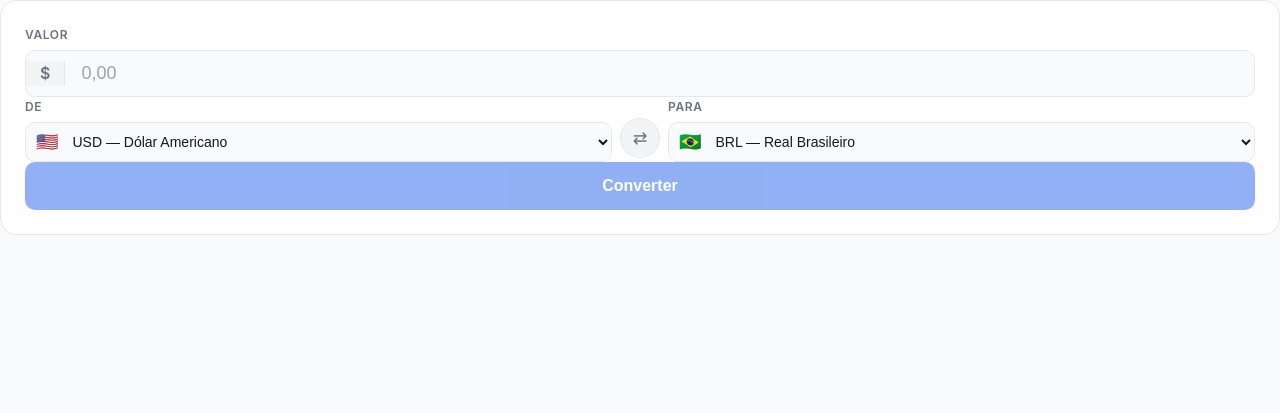
Test: Conversor › resultado de conversão › exibe a hora da cotação
Type "1" into the field with placeholder "0,00" at [660, 74], box [65, 51, 1254, 96]
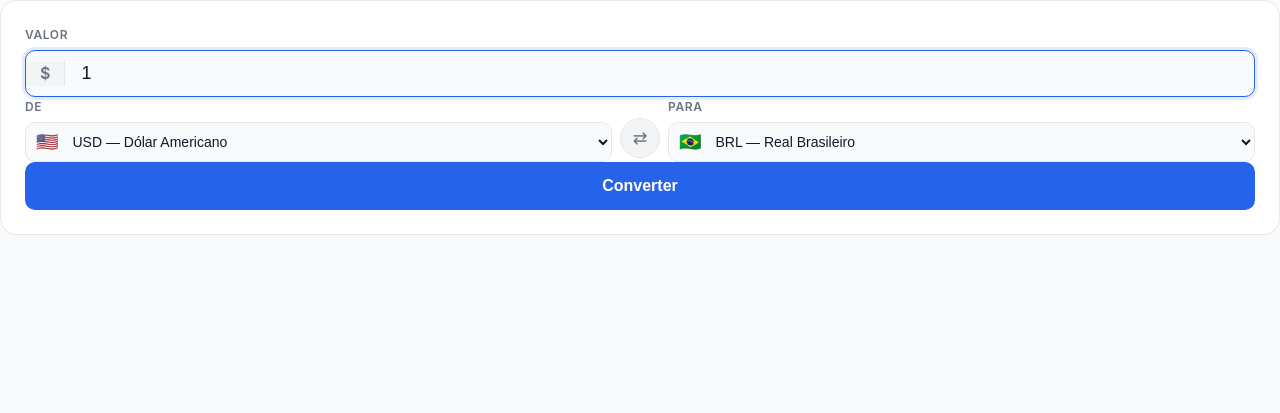
Click the button "Converter" at [640, 186], box [25, 162, 1255, 210]
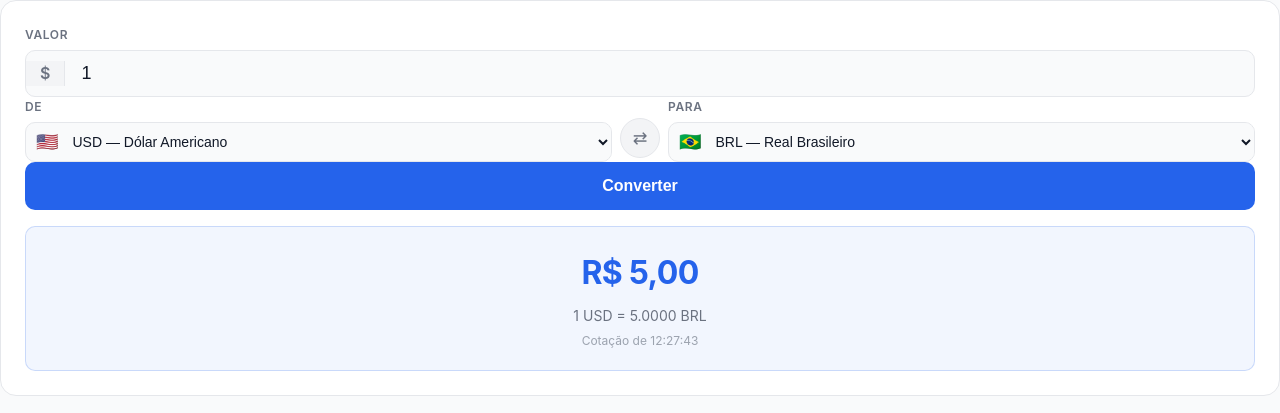
Expected: the text "Cotação de 12:27:43" is shown, [582, 333, 698, 348]
